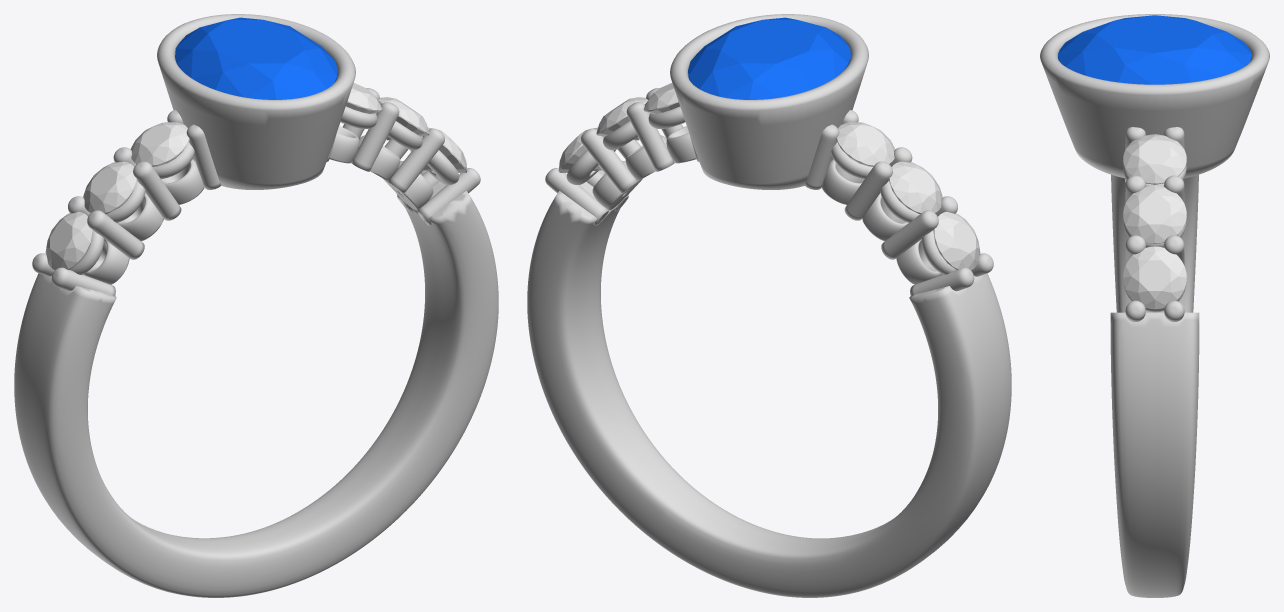
Rendered from bluesapphire-oval-platinum-bezelset-straighttaperedband-7stone.glb.
3 renders of one model, left to right at view 1: azimuth 30°, elevation 25°; view 2: azimuth 150°, elevation 25°; view 3: azimuth 270°, elevation 25°, orthographic.
Visible parts, largest first — view 1: metal, stone.002, side.018, side.019, side.020, side.022, side.023; view 2: metal, stone.002, side.018, side.019, side.020, side.022, side.023; view 3: metal, stone.002, side.021, side.022, side.023.
Part boxes in pixels (<box>): metal: <box>14,14,498,597</box>; stone.002: <box>175,17,337,99</box>; side.018: <box>45,211,92,270</box>; side.019: <box>83,161,137,213</box>; side.020: <box>130,122,189,166</box>; side.022: <box>377,97,429,140</box>; side.023: <box>342,83,382,123</box>; metal: <box>527,14,1011,597</box>; stone.002: <box>688,17,850,99</box>; side.018: <box>933,211,980,270</box>; side.019: <box>888,161,942,213</box>; side.020: <box>836,122,895,166</box>; side.022: <box>596,97,648,140</box>; side.023: <box>643,83,683,123</box>; metal: <box>1040,14,1269,597</box>; stone.002: <box>1058,15,1251,84</box>; side.021: <box>1123,246,1186,309</box>; side.022: <box>1123,185,1186,243</box>; side.023: <box>1123,134,1186,184</box>.
Bounding box in the file's own units: 20.49 × 23.41 × 9.04.
